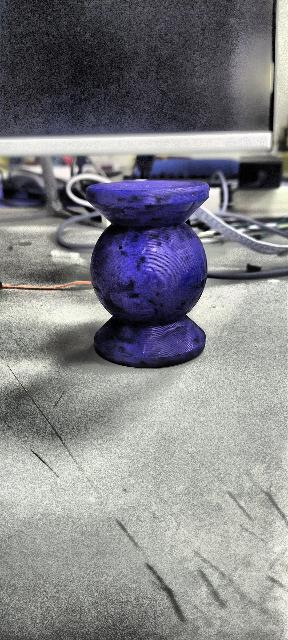blue: (85, 178, 210, 368)
